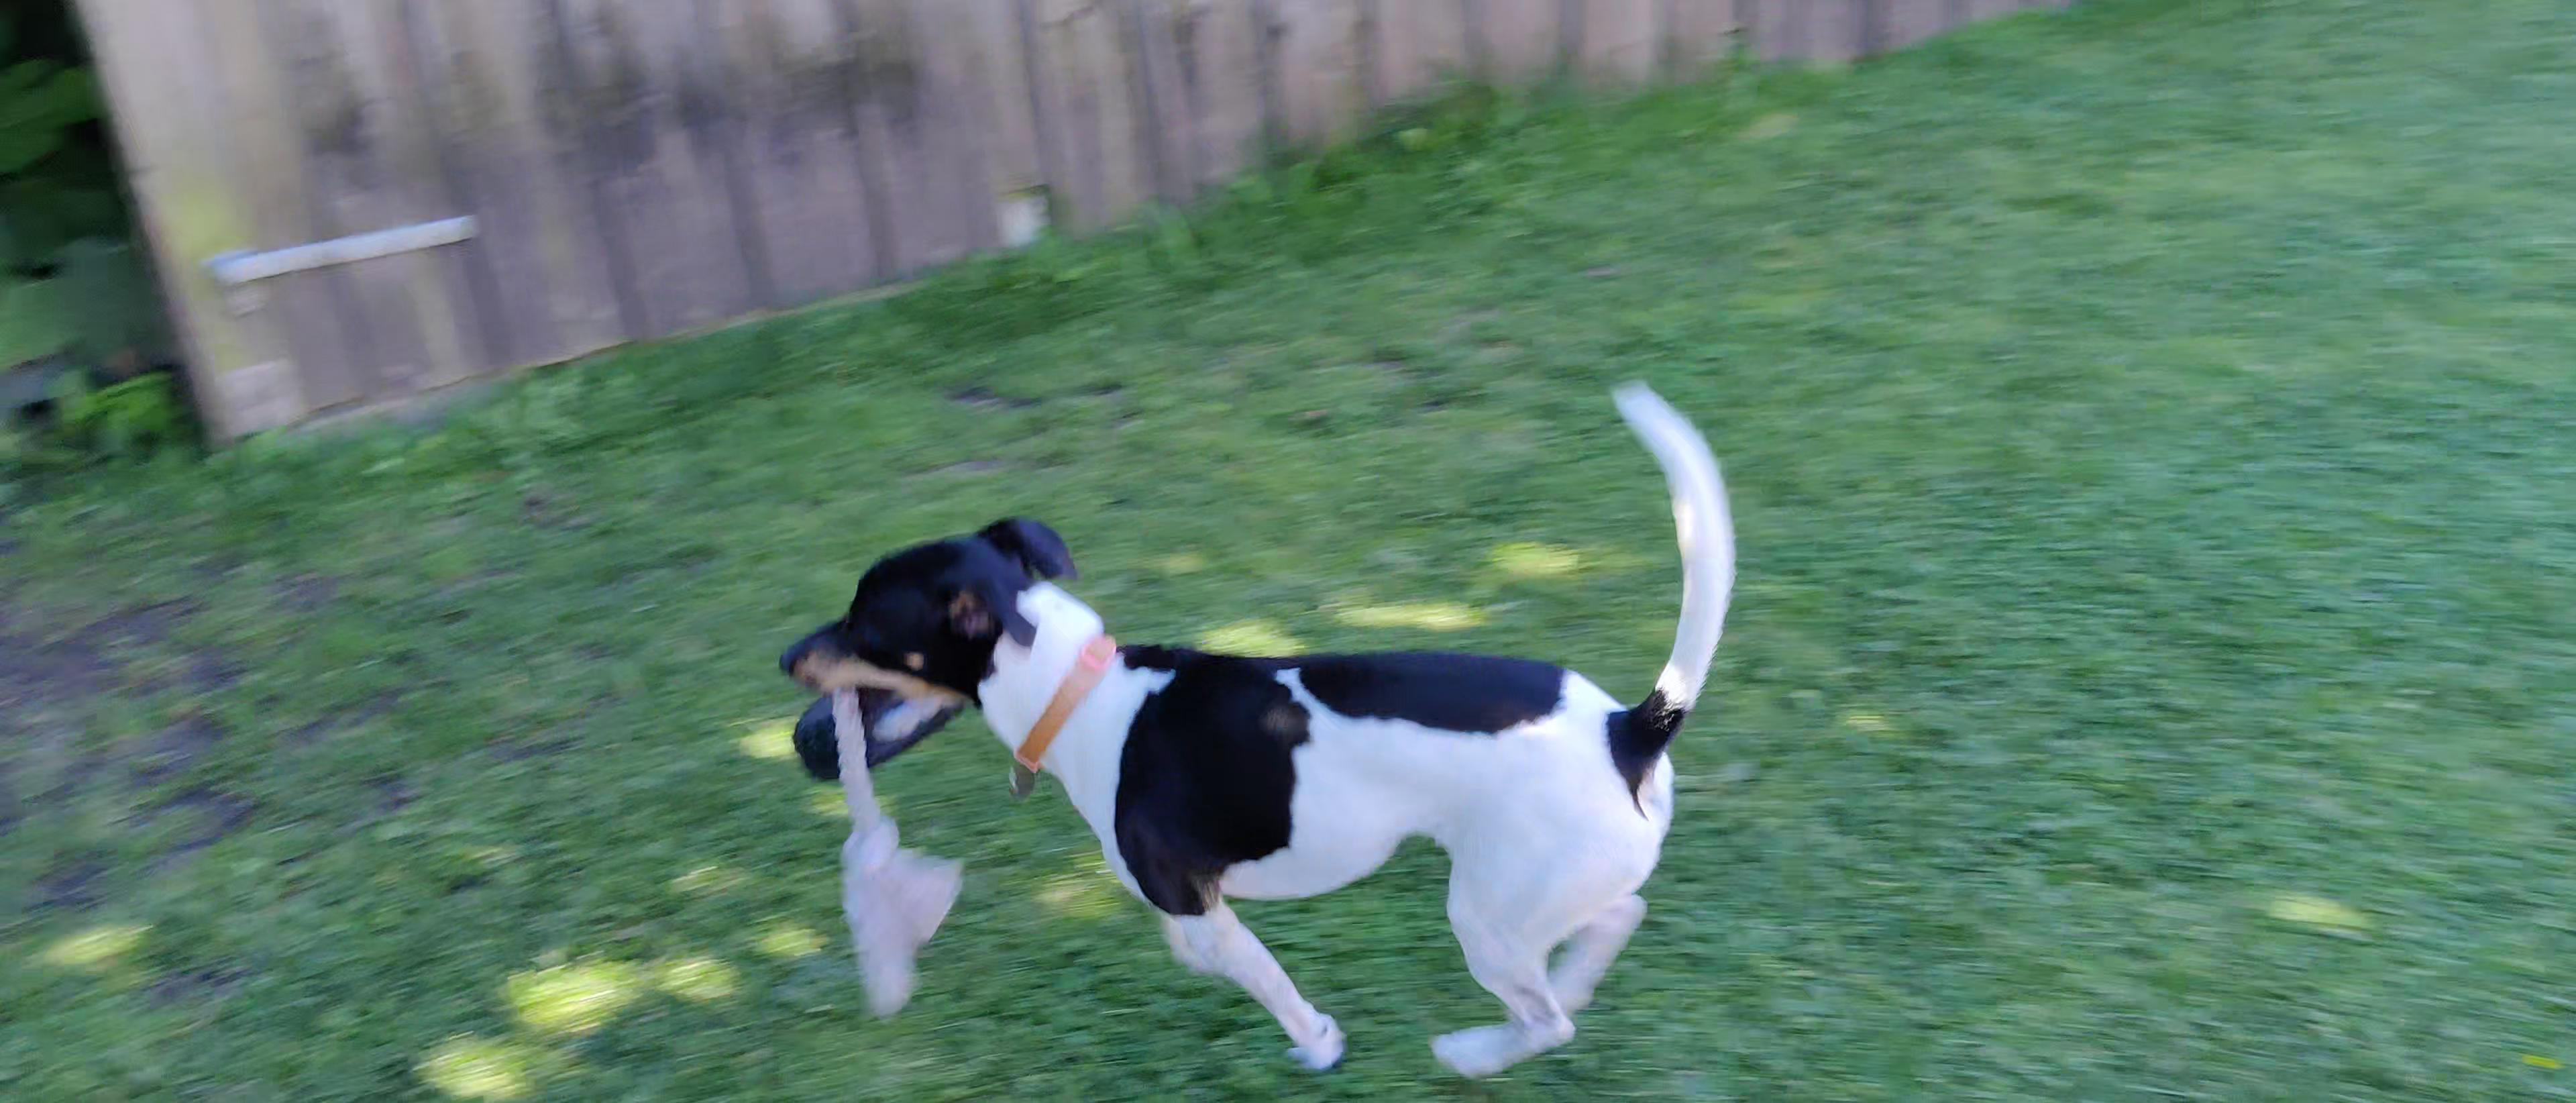Dog: (775, 368, 1751, 1082)
